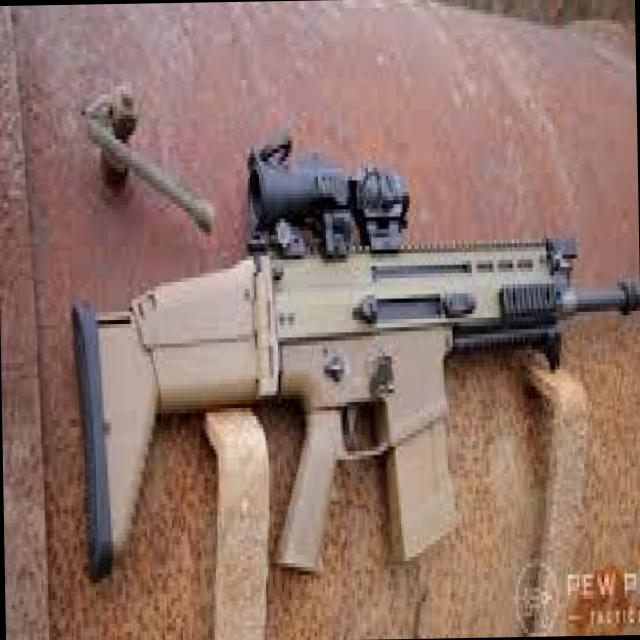Gun: (42, 150, 640, 566)
